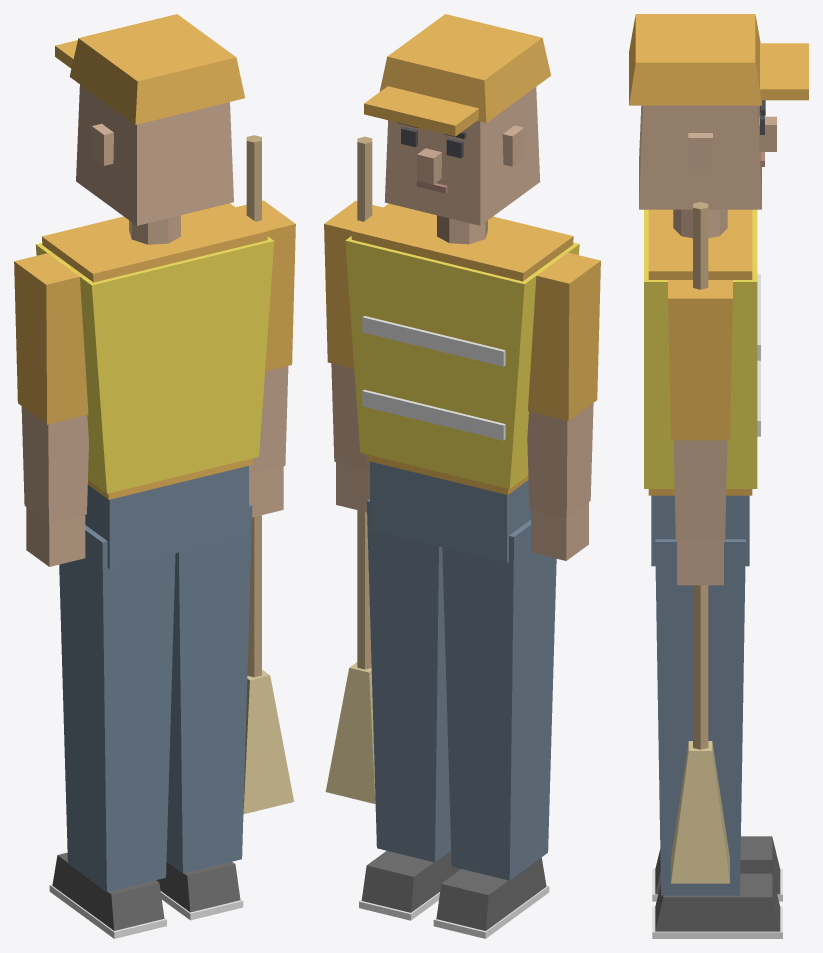
Rendered from sweeper.glb.
The picture shows the model from 3 angles, left to right: view 1: azimuth 30°, elevation 25°; view 2: azimuth 150°, elevation 25°; view 3: azimuth 270°, elevation 25°; orthographic projection. The views are drawn at different scales.
Parts seen in each view (by area): view 1: Torso, LegMesh, HeadMesh, LegMesh2, ArmMesh, Broom, ArmMesh2; view 2: Torso, LegMesh, HeadMesh, LegMesh2, ArmMesh, Broom, ArmMesh2; view 3: HeadMesh, LegMesh2, Torso, ArmMesh2, Broom, LegMesh.
Part boxes in pixels (x1=…): Torso: x1=35, y1=203, x2=274, y2=568; LegMesh: x1=49, y1=525, x2=175, y2=938; HeadMesh: x1=55, y1=14, x2=244, y2=225; LegMesh2: x1=156, y1=504, x2=252, y2=920; ArmMesh: x1=14, y1=252, x2=88, y2=566; Broom: x1=243, y1=135, x2=293, y2=814; ArmMesh2: x1=236, y1=200, x2=295, y2=517; Torso: x1=345, y1=203, x2=579, y2=562; LegMesh: x1=433, y1=520, x2=556, y2=938; HeadMesh: x1=364, y1=14, x2=550, y2=225; LegMesh2: x1=359, y1=499, x2=460, y2=920; ArmMesh: x1=527, y1=252, x2=600, y2=560; Broom: x1=325, y1=136, x2=375, y2=803; ArmMesh2: x1=324, y1=201, x2=382, y2=512; HeadMesh: x1=629, y1=14, x2=808, y2=209; LegMesh2: x1=652, y1=539, x2=782, y2=938; Torso: x1=644, y1=209, x2=760, y2=566; ArmMesh2: x1=668, y1=280, x2=732, y2=585; Broom: x1=671, y1=202, x2=729, y2=883; LegMesh: x1=652, y1=836, x2=782, y2=901.
Size of the model in its own units: 0.591 by 1.95 by 0.365.
